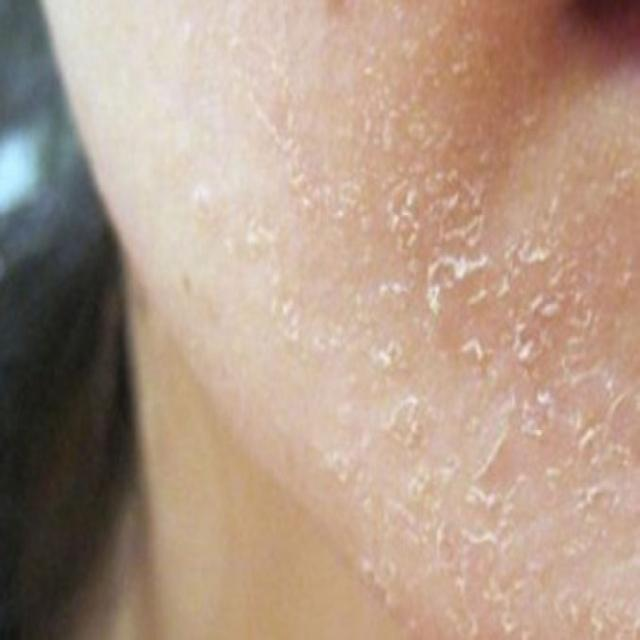Dry-Skin: (124, 0, 640, 351), (319, 213, 640, 640)
